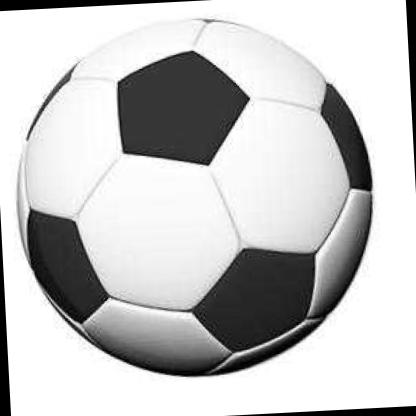ball: (5, 6, 382, 386)
